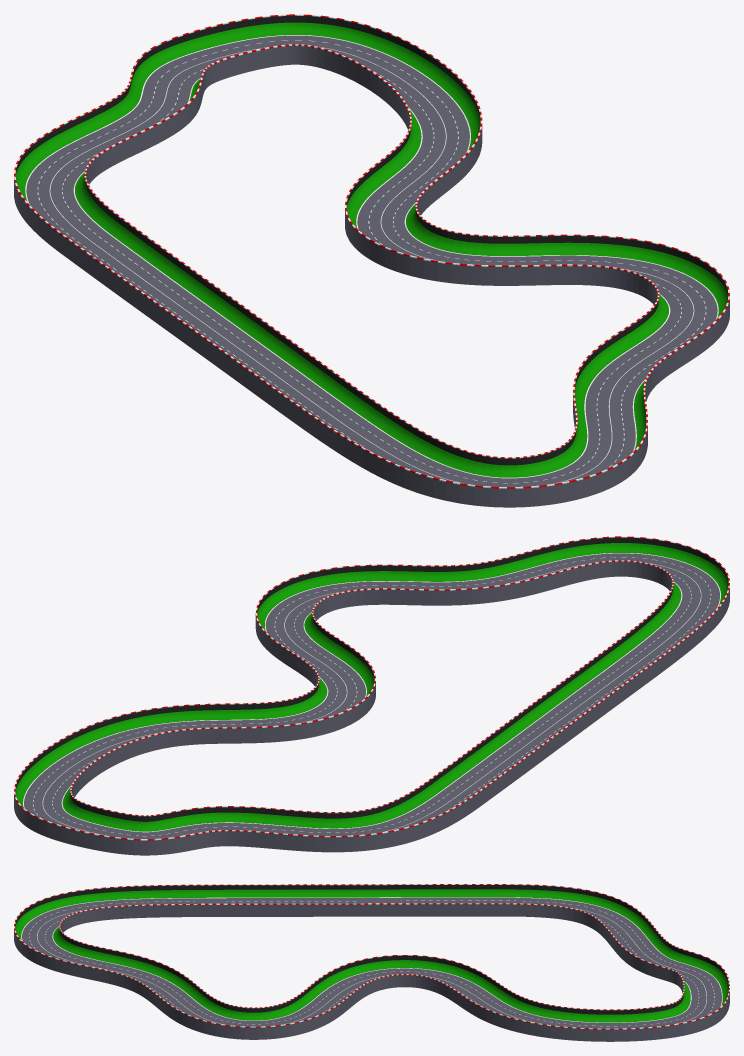
The model's file is Track #13.fbx.
3 renders of one model, top to bottom at view 1: azimuth 30°, elevation 25°; view 2: azimuth 150°, elevation 25°; view 3: azimuth 270°, elevation 25°, orthographic. The views are drawn at different scales.
Parts seen in each view (by area): view 1: Plane; view 2: Plane; view 3: Plane.
Boxes of the visible parts, <box> form: Plane: <box>14,14,729,507</box>; Plane: <box>14,536,729,855</box>; Plane: <box>14,884,729,1041</box>.
Bounding box in the file's own units: 4515 × 185 × 9424.
